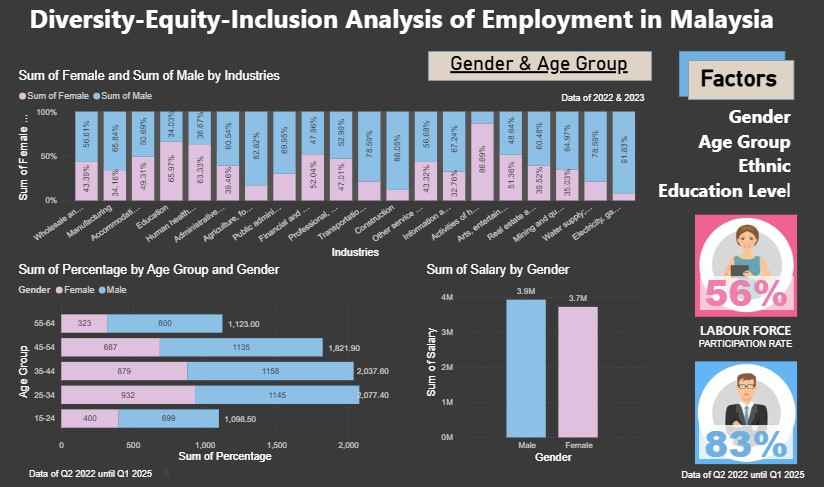

The dashboard page shown, as its layout file describes it:
{"tool":"powerbi","page":{"name":"Gender & Age Group","canvas":[1280,720],"ordinal":0},"visuals":[{"type":"clusteredColumnChart","fields":{"Y":["Gender.Average Value per Gender"],"Category":["Gender.Gender"]},"box":[1071.2,318.9,145.5,152.8],"z":0},{"type":"textbox","box":[85.7,0,1107,62.2],"z":1000},{"type":"textbox","box":[1002.8,151.2,211.7,168],"z":2000},{"type":"shape","box":[1044.8,79,156.2,67.2],"z":3000},{"type":"shape","box":[1058.3,92.4,156.2,58.8],"z":4000},{"type":"textbox","box":[1071.7,94.1,142.8,52.1],"z":5000},{"type":"clusteredColumnChart","fields":{"Y":["Sum(Sheet1.Salary)"],"Category":["Sheet1.Gender"]},"box":[668.6,389.4,333.6,299.8],"z":6000},{"type":"barChart","fields":{"Category":["Sex AgeGroup.Age Group"],"Y":["Sum(Sex AgeGroup.Percentage)"],"Series":["Sex AgeGroup.Gender"]},"box":[69.1,389.4,570.1,299.8],"z":8000},{"type":"textbox","box":[85.2,689.1,214.5,20.6],"z":10000},{"type":"image","box":[1068.2,318.9,149.9,152.8],"z":11000},{"type":"image","box":[1068.2,533.4,149.9,155.8],"z":12000},{"type":"textbox","box":[1043.3,689.1,198.4,26.4],"z":13000},{"type":"textbox","box":[1058,471.7,169,61.7],"z":14000},{"type":"shape","box":[1075.6,410,138.1,50],"z":15000},{"type":"textbox","box":[1071.2,389.4,145.5,91.1],"z":16000},{"type":"shape","box":[1074.1,628.9,138.1,50],"z":17000},{"type":"textbox","box":[1074.1,611.3,139.6,94],"z":18000},{"type":"hundredPercentStackedColumnChart","fields":{"Category":["Industry.Industries"],"Y":["Sum(Industry.Female)","Sum(Industry.Male)"]},"box":[69.1,104.3,933.1,285.1],"z":19000},{"type":"shape","box":[675.9,79.3,329.1,44.1],"z":20000},{"type":"textbox","box":[866.9,135.2,135.2,30.9],"z":21000},{"type":"textbox","box":[690.6,74.9,296.8,51.4],"z":22000},{"type":"textbox","box":[0,0,76.4,20.6],"z":22001}]}

Visuals, with their boxes on the page's 1280x720 design canvas (x1, y1, x2, y2). These are canvas units, not pixel positions in the 824x487 screenshot, which may show the page scaled, cropped or inside an application window:
clusteredColumnChart - Gender.Average Value per Gender x Gender.Gender: <bbox>1071, 319, 1217, 472</bbox>
textbox: <bbox>86, 0, 1193, 62</bbox>
textbox: <bbox>1003, 151, 1214, 319</bbox>
shape: <bbox>1045, 79, 1201, 146</bbox>
shape: <bbox>1058, 92, 1214, 151</bbox>
textbox: <bbox>1072, 94, 1214, 146</bbox>
clusteredColumnChart - Sum(Sheet1.Salary) x Sheet1.Gender: <bbox>669, 389, 1002, 689</bbox>
barChart - Sex AgeGroup.Age Group x Sum(Sex AgeGroup.Percentage): <bbox>69, 389, 639, 689</bbox>
textbox: <bbox>85, 689, 300, 710</bbox>
image: <bbox>1068, 319, 1218, 472</bbox>
image: <bbox>1068, 533, 1218, 689</bbox>
textbox: <bbox>1043, 689, 1242, 716</bbox>
textbox: <bbox>1058, 472, 1227, 533</bbox>
shape: <bbox>1076, 410, 1214, 460</bbox>
textbox: <bbox>1071, 389, 1217, 480</bbox>
shape: <bbox>1074, 629, 1212, 679</bbox>
textbox: <bbox>1074, 611, 1214, 705</bbox>
hundredPercentStackedColumnChart - Industry.Industries x Sum(Industry.Female): <bbox>69, 104, 1002, 389</bbox>
shape: <bbox>676, 79, 1005, 123</bbox>
textbox: <bbox>867, 135, 1002, 166</bbox>
textbox: <bbox>691, 75, 987, 126</bbox>
textbox: <bbox>0, 0, 76, 21</bbox>
